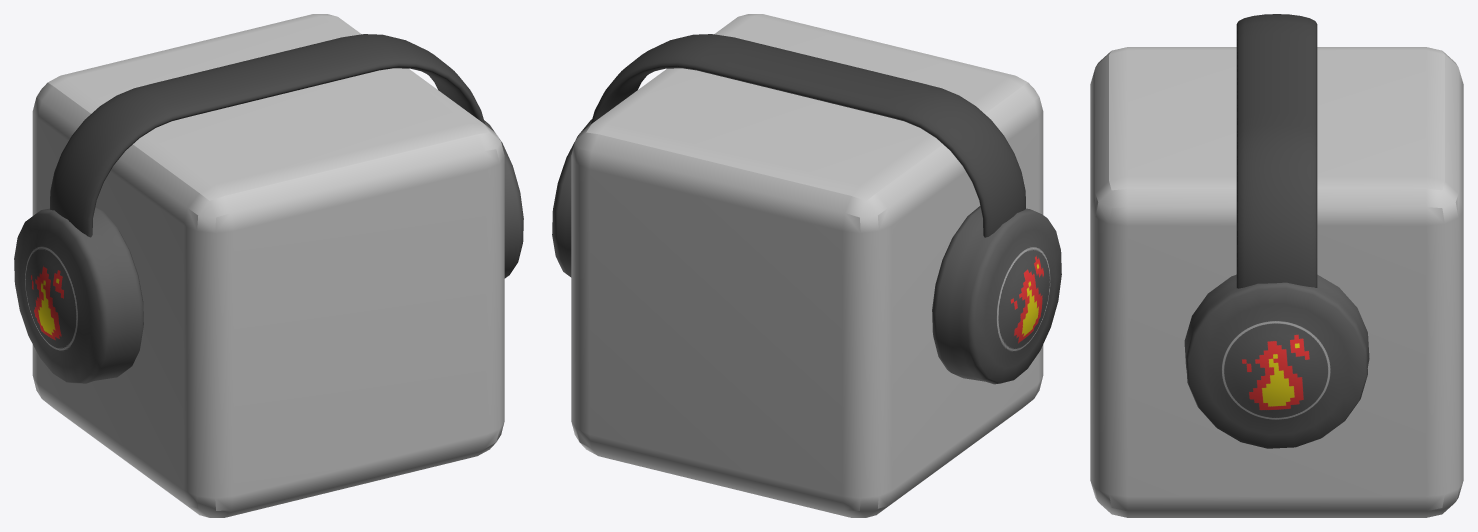
Rendered from player.fbx.
The picture shows the model from 3 angles, left to right: view 1: azimuth 30°, elevation 25°; view 2: azimuth 150°, elevation 25°; view 3: azimuth 270°, elevation 25°; orthographic projection. The views are drawn at different scales.
Visible parts, largest first — view 1: body, headphones, pSphere3, pSphere5; view 2: body, headphones, pSphere3, pSphere5; view 3: body, pSphere5, headphones.
Boxes of the visible parts, <box> form: body: <box>32,14,504,517</box>; headphones: <box>50,34,485,237</box>; pSphere3: <box>14,206,143,383</box>; pSphere5: <box>484,120,523,278</box>; body: <box>571,14,1043,517</box>; headphones: <box>590,34,1025,237</box>; pSphere3: <box>932,206,1061,384</box>; pSphere5: <box>552,119,591,277</box>; body: <box>1090,47,1463,517</box>; pSphere5: <box>1184,274,1369,448</box>; headphones: <box>1236,14,1317,288</box>.
Bounding box in the file's own units: 2.45 × 1.9 × 1.72.
